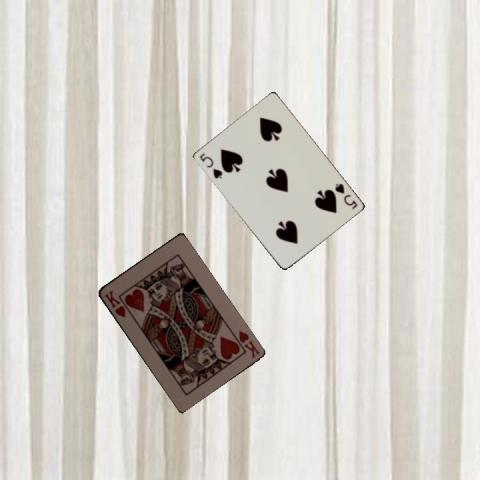5s: (331, 180, 359, 211), (196, 150, 223, 180)
Kh: (100, 287, 126, 319), (235, 328, 261, 359)
